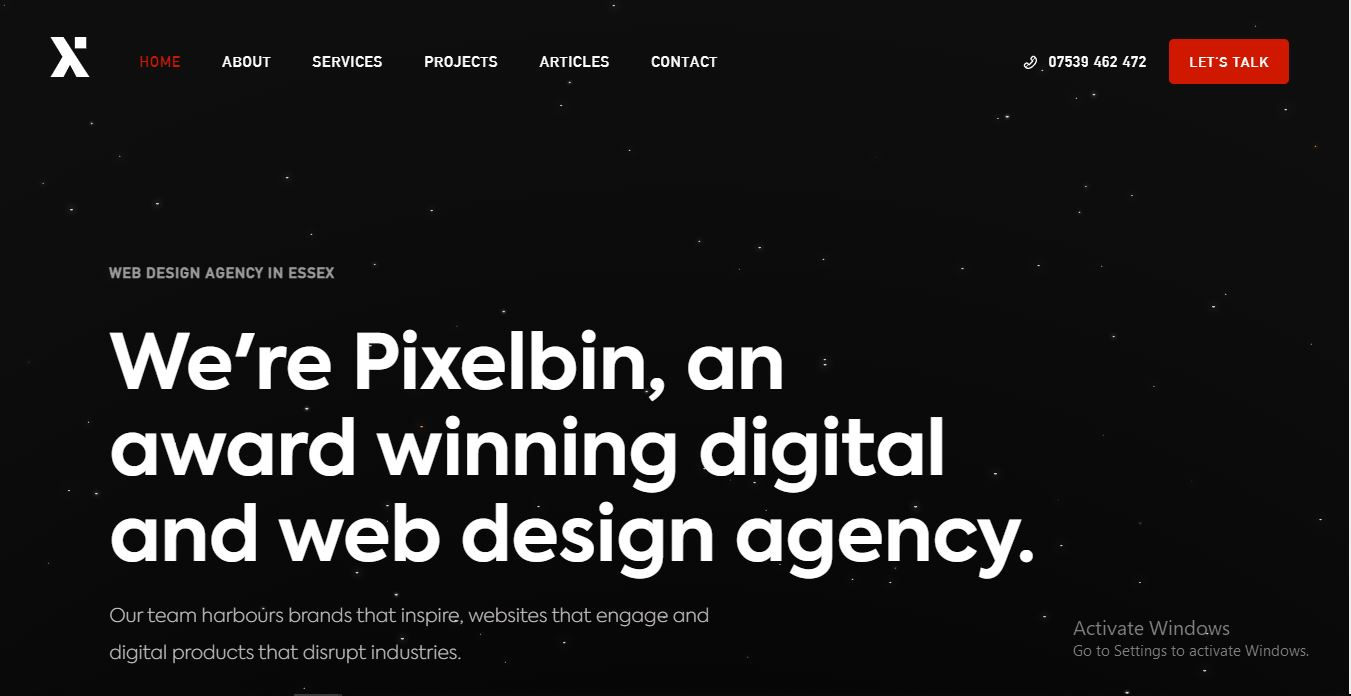Button: (1166, 33, 1293, 83)
Image: (34, 15, 106, 101)
Menu Bar: (124, 31, 725, 99)
Nav Bar: (1014, 23, 1295, 99)
